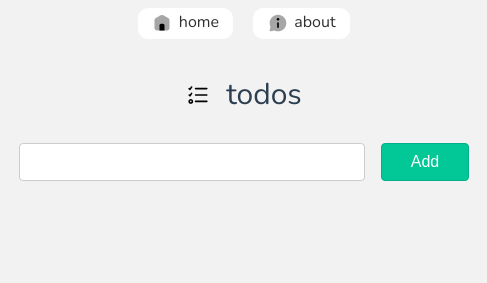
Test case: My First Test › add and remove todo
Type "Learn Vue" into the field at (192, 162), box [19, 143, 365, 181]
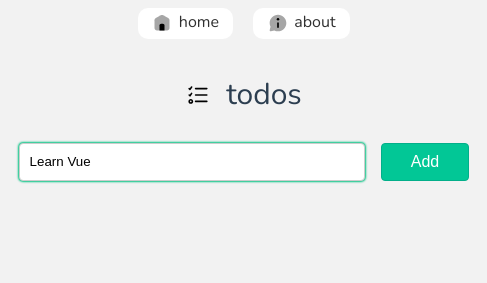
Press Enter in the field, box [19, 143, 365, 181]
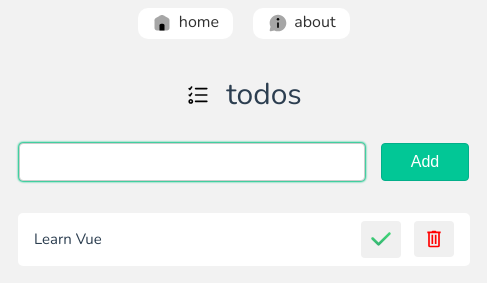
Now the text "Learn Vue" is shown, box [34, 227, 102, 251]
Click the button with class "remove" at (434, 239), box [414, 221, 454, 257]
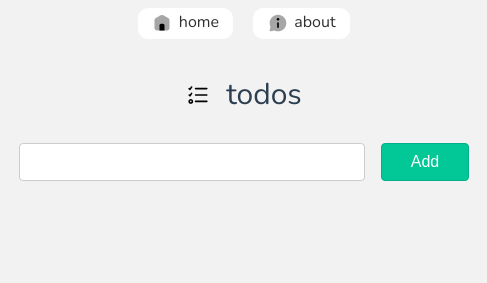
Now the text ".todo" is gone
